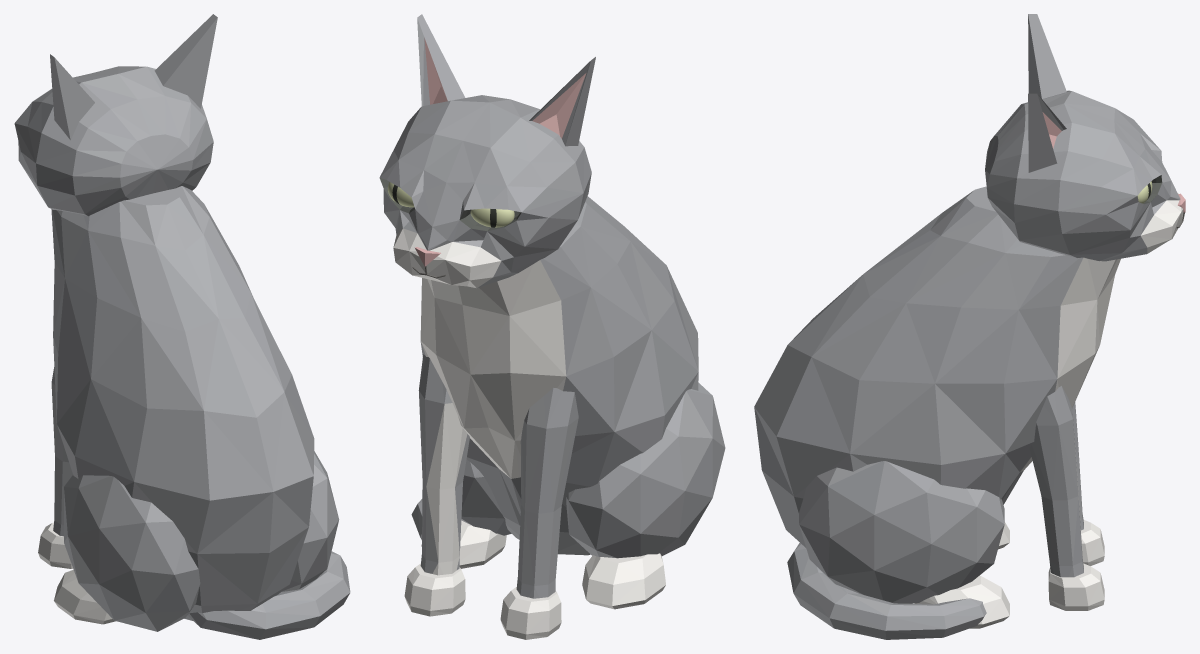
The model's file is cat_fit_r2.glb.
3 renders of one model, left to right at view 1: azimuth 30°, elevation 25°; view 2: azimuth 150°, elevation 25°; view 3: azimuth 270°, elevation 25°, orthographic. The views are drawn at different scales.
Visible parts, largest first — view 1: Rounded_Torso_MASTER, Sculpted_Head_MASTER, Haunch_Right_MASTER, Curled_tail_MASTER, Haunch_Left_MASTER, Thick_Ear_Left_MASTER, Thick_Ear_Right_MASTER, Hind_paw_Right_MASTER, Foreleg_Right_MASTER, Front_paw_Right_MASTER; view 2: Rounded_Torso_MASTER, Sculpted_Head_MASTER, Haunch_Right_MASTER, Foreleg_Right_MASTER, Foreleg_Left_MASTER, Hind_paw_Right_MASTER, Thick_Ear_Right_MASTER, Front_paw_Right_MASTER, Front_paw_Left_MASTER, Thick_Ear_Left_MASTER, Haunch_Left_MASTER, Hind_paw_Left_MASTER (+1 smaller); view 3: Rounded_Torso_MASTER, Sculpted_Head_MASTER, Haunch_Left_MASTER, Curled_tail_MASTER, Foreleg_Left_MASTER, Thick_Ear_Right_MASTER, Front_paw_Left_MASTER, Thick_Ear_Left_MASTER, Hind_paw_Left_MASTER, Front_paw_Right_MASTER.
Part boxes in pixels (left/top/right/bottom): Rounded_Torso_MASTER: left=51, top=186, right=314, bottom=620; Sculpted_Head_MASTER: left=14, top=66, right=213, bottom=216; Haunch_Right_MASTER: left=64, top=475, right=200, bottom=631; Curled_tail_MASTER: left=188, top=551, right=350, bottom=639; Haunch_Left_MASTER: left=281, top=451, right=339, bottom=591; Thick_Ear_Left_MASTER: left=154, top=14, right=217, bottom=108; Thick_Ear_Right_MASTER: left=50, top=54, right=94, bottom=140; Hind_paw_Right_MASTER: left=54, top=570, right=115, bottom=624; Foreleg_Right_MASTER: left=51, top=367, right=72, bottom=536; Front_paw_Right_MASTER: left=38, top=522, right=72, bottom=568; Rounded_Torso_MASTER: left=420, top=196, right=698, bottom=555; Sculpted_Head_MASTER: left=379, top=95, right=591, bottom=288; Haunch_Right_MASTER: left=566, top=382, right=725, bottom=558; Foreleg_Right_MASTER: left=516, top=387, right=578, bottom=598; Foreleg_Left_MASTER: left=418, top=354, right=469, bottom=575; Hind_paw_Right_MASTER: left=582, top=553, right=665, bottom=609; Thick_Ear_Right_MASTER: left=529, top=57, right=595, bottom=146; Front_paw_Right_MASTER: left=500, top=586, right=561, bottom=639; Front_paw_Left_MASTER: left=404, top=563, right=465, bottom=616; Thick_Ear_Left_MASTER: left=417, top=14, right=465, bottom=106; Haunch_Left_MASTER: left=461, top=459, right=511, bottom=535; Hind_paw_Left_MASTER: left=421, top=520, right=506, bottom=568; Rounded_Torso_MASTER: left=754, top=186, right=1120, bottom=547; Sculpted_Head_MASTER: left=985, top=90, right=1183, bottom=261; Haunch_Left_MASTER: left=799, top=461, right=1004, bottom=603; Curled_tail_MASTER: left=787, top=542, right=986, bottom=639; Foreleg_Left_MASTER: left=1029, top=386, right=1083, bottom=577; Thick_Ear_Right_MASTER: left=1028, top=14, right=1066, bottom=98; Front_paw_Left_MASTER: left=1048, top=563, right=1104, bottom=610; Thick_Ear_Left_MASTER: left=1028, top=93, right=1066, bottom=172; Hind_paw_Left_MASTER: left=914, top=575, right=1009, bottom=628; Front_paw_Right_MASTER: left=1081, top=520, right=1104, bottom=565.
Bounding box in the file's own units: 0.0762 × 0.15 × 0.1117.
